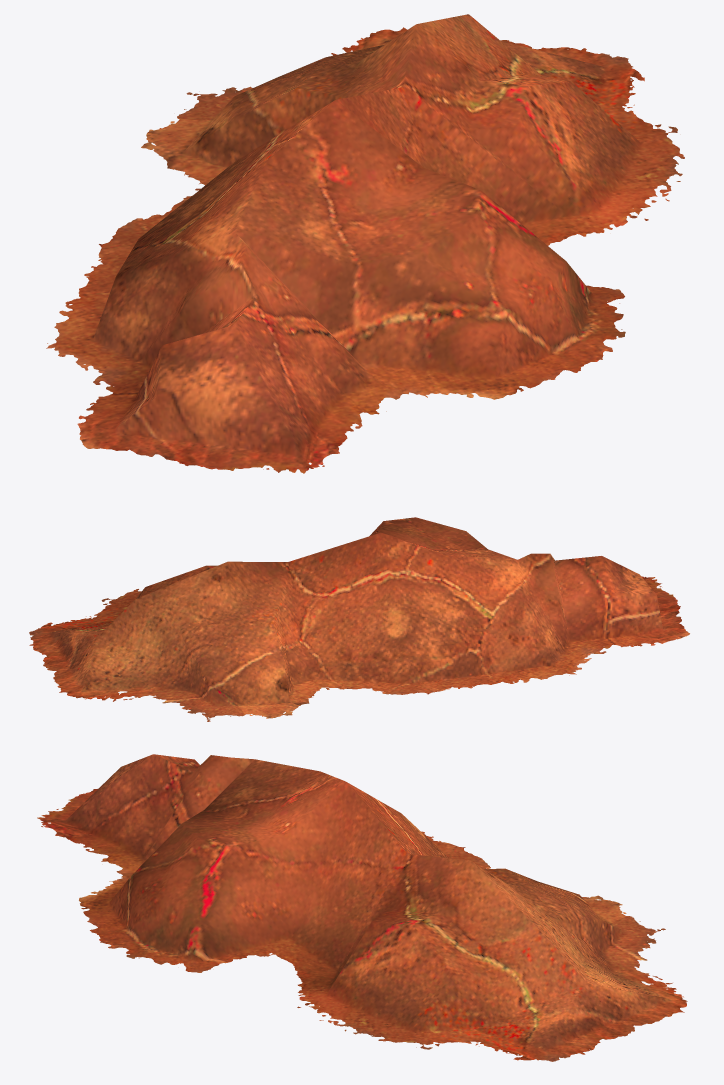
The model's file is Rock_2.fbx.
3 renders of one model, top to bottom at view 1: azimuth 30°, elevation 25°; view 2: azimuth 150°, elevation 25°; view 3: azimuth 270°, elevation 25°, orthographic. The views are drawn at different scales.
Visible parts, largest first — view 1: Rock_2; view 2: Rock_2; view 3: Rock_2.
Boxes of the visible parts, box(x1,y1,x2,y2) form: Rock_2: box(46, 14, 684, 473); Rock_2: box(29, 517, 689, 721); Rock_2: box(37, 754, 687, 1061).
Bounding box in the file's own units: 4.25 × 0.8048 × 3.97.
1 material, 1 textured.
